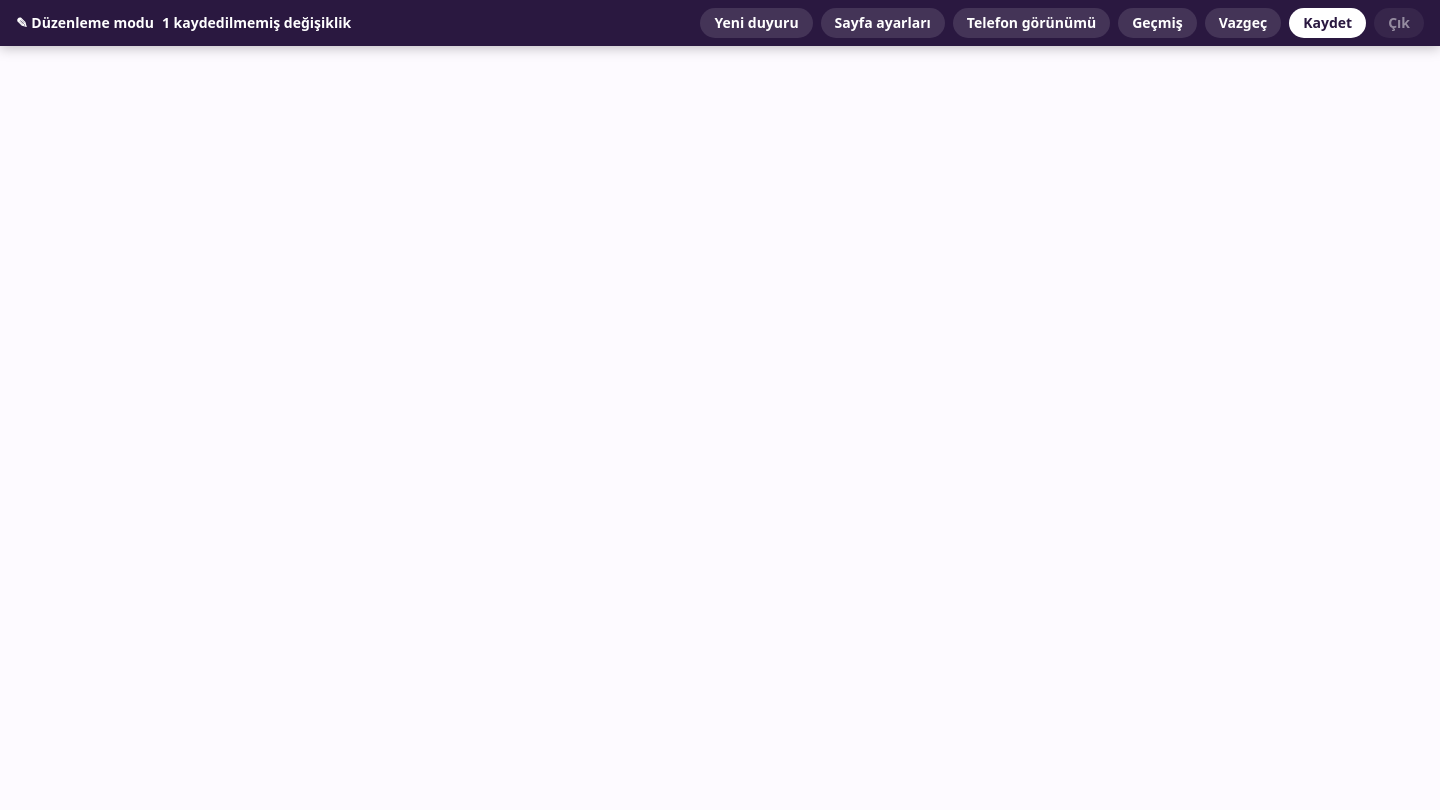
Test: EditBar › başarılı kayıt bekleyenleri temizler
Click the button "Kaydet" at (1328, 23), box [1289, 8, 1366, 38]
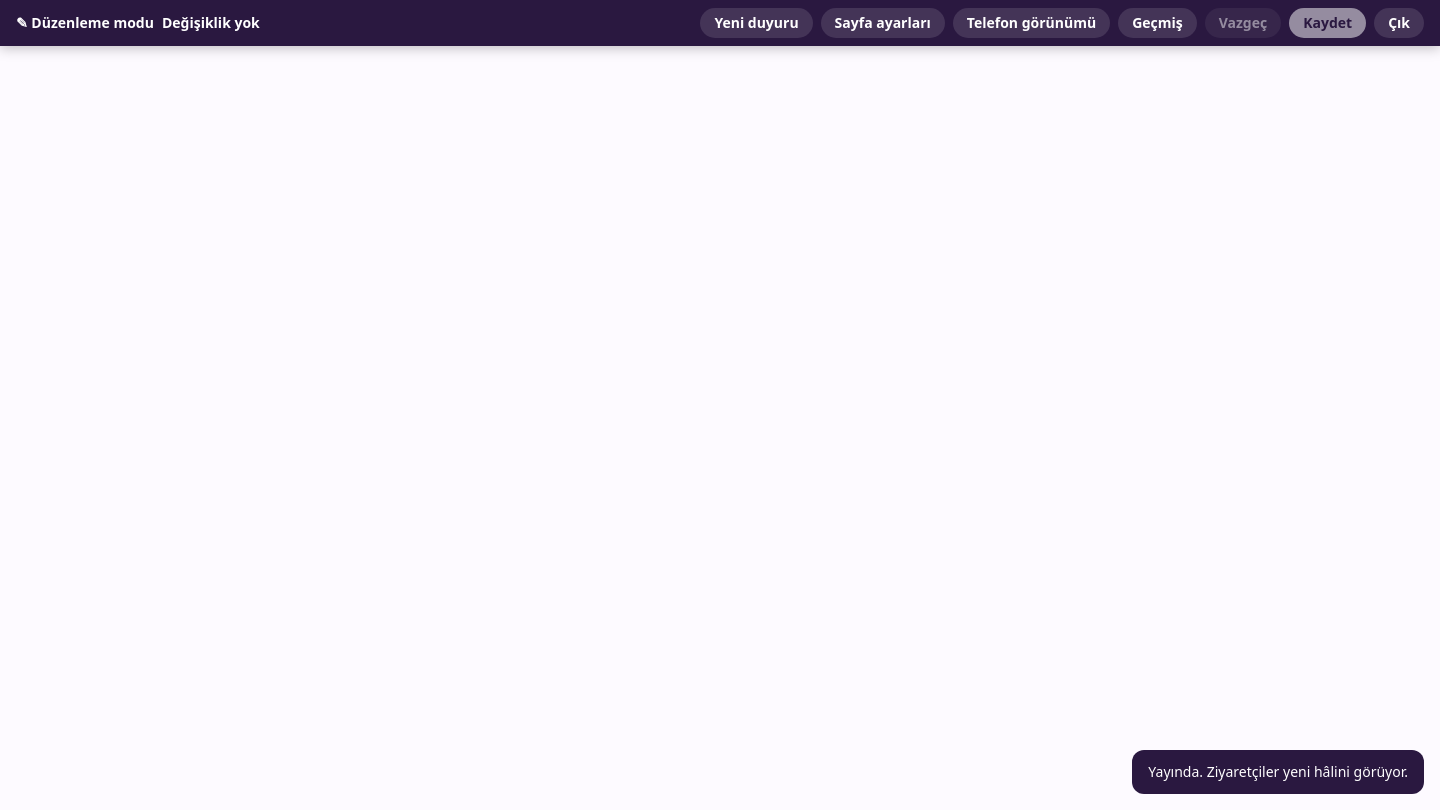
Expected: the text "Yayında. Ziyaretçiler yeni hâlini görüyor." is shown, [1132, 750, 1424, 794]
